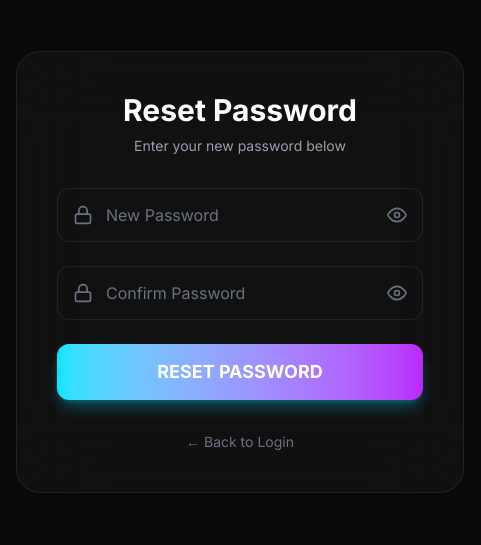
ResetPasswordForm › shows API error message
In the password field with placeholder "New Password": (240, 215) [57, 188, 423, 242], type "newpassword123"
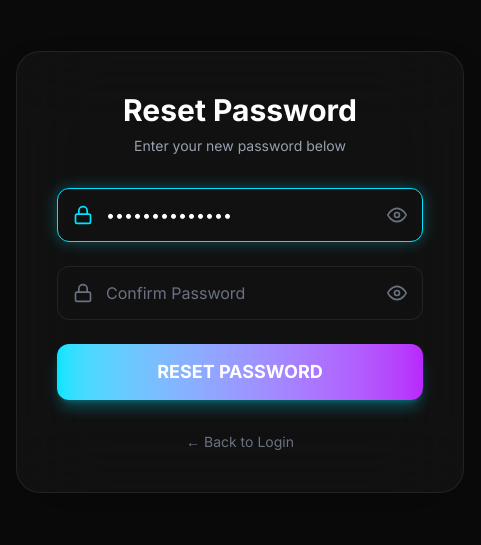
In the password field with placeholder "Confirm Password": (240, 293) [57, 266, 423, 320], type "newpassword123"
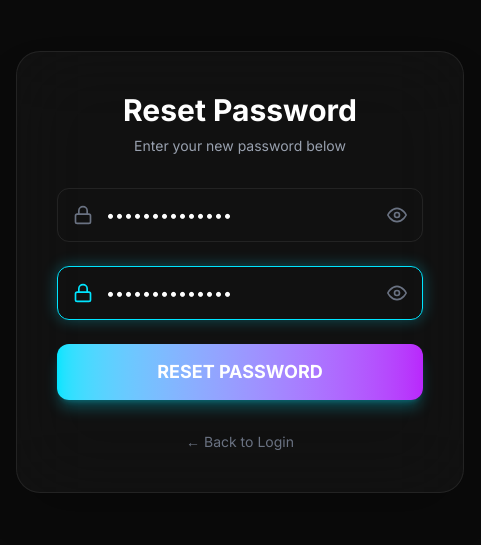
Click the button "RESET PASSWORD": (240, 372) [57, 344, 423, 400]
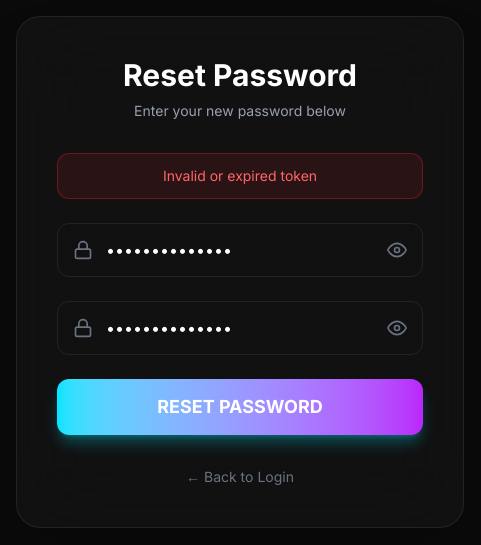
Now the text "Invalid or expired token" is shown, box [57, 153, 423, 199]
